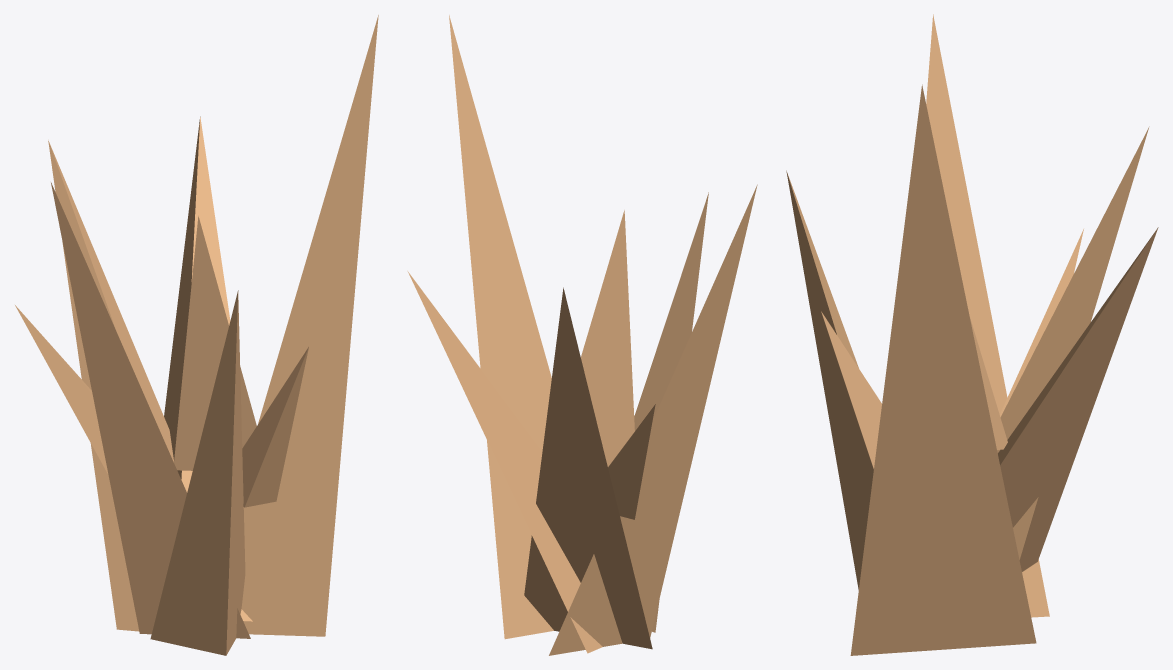
File: DriedGrassC.fbx
3 renders of one model, left to right at view 1: azimuth 30°, elevation 25°; view 2: azimuth 150°, elevation 25°; view 3: azimuth 270°, elevation 25°, orthographic. The views are drawn at different scales.
Visible parts, largest first — view 1: Cone.009; view 2: Cone.009; view 3: Cone.009.
Boxes of the visible parts, x1,y1,x2,y2 form: Cone.009: (15,15,378,655); Cone.009: (407,15,757,655); Cone.009: (786,14,1158,655).
Size of the model in its own units: 43.11 by 73.62 by 40.29.
